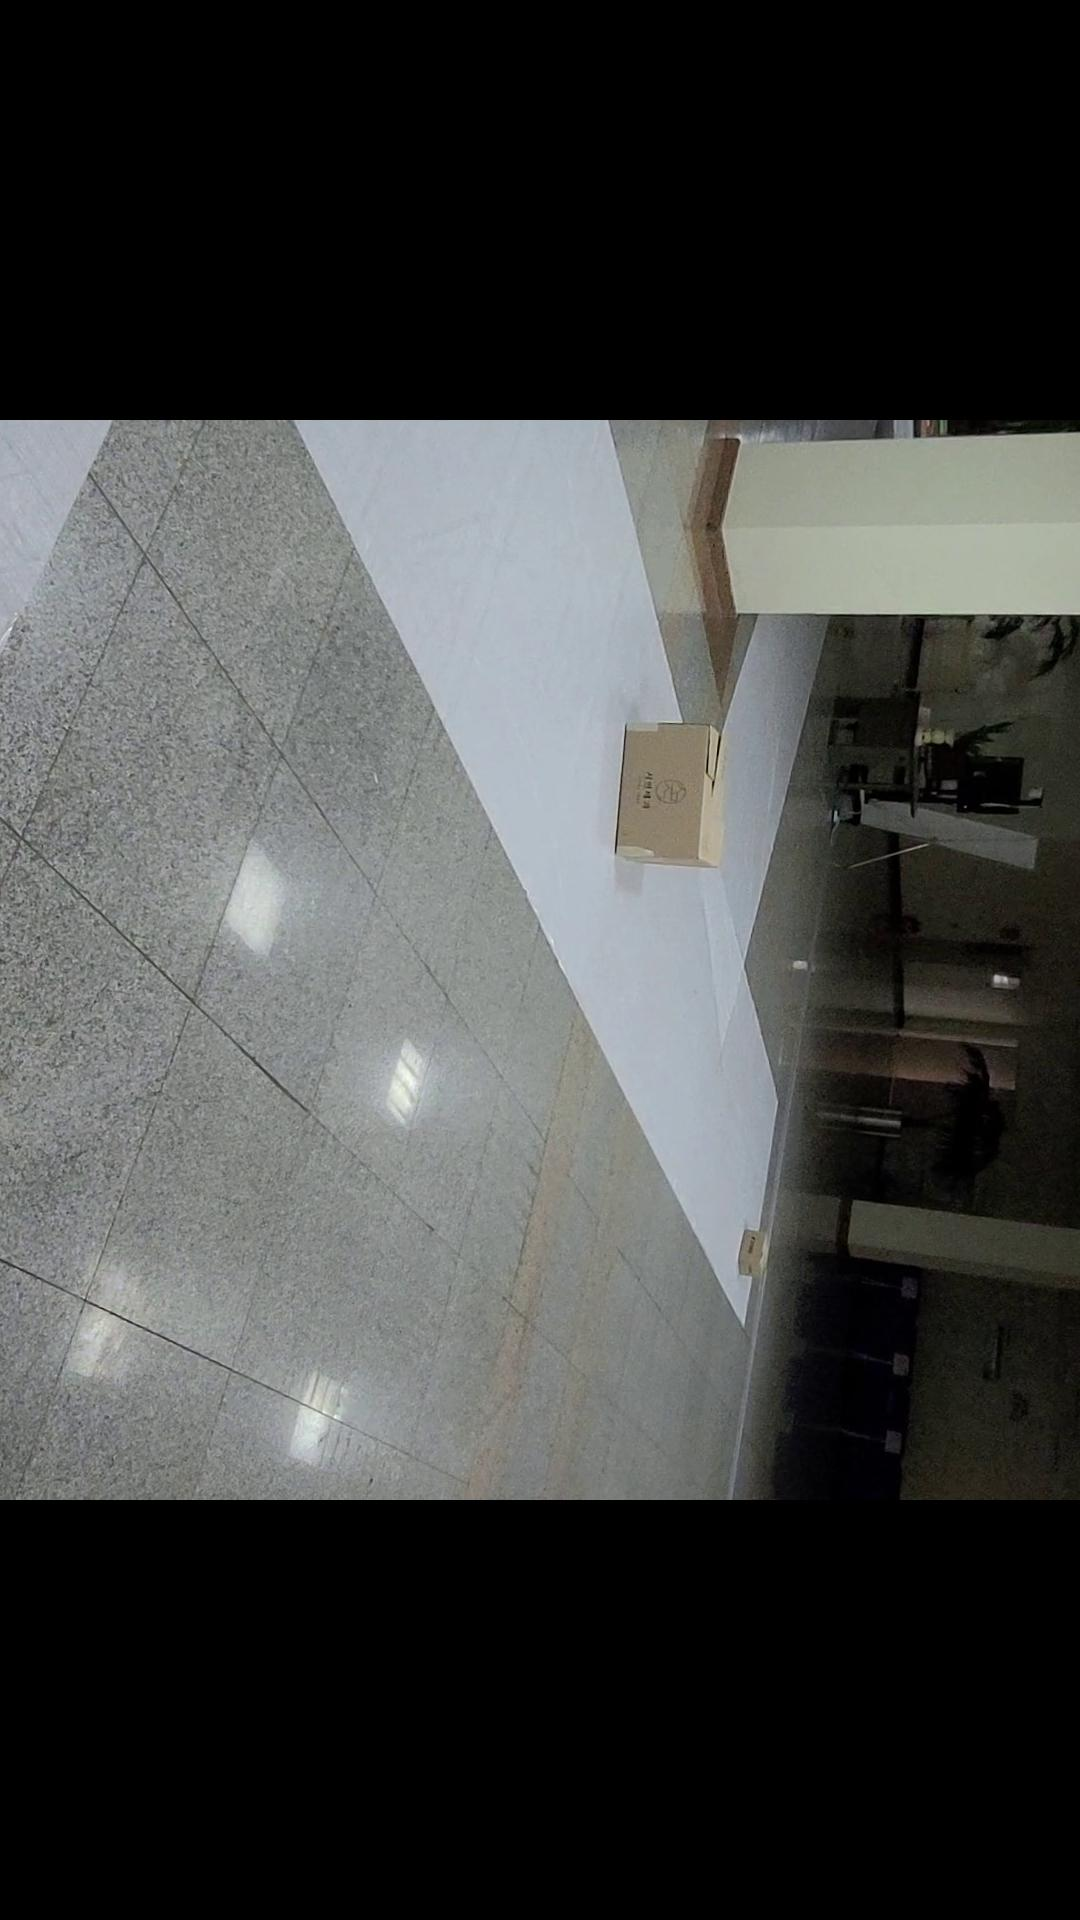Box: (580, 696, 752, 898), (708, 1185, 800, 1302)
